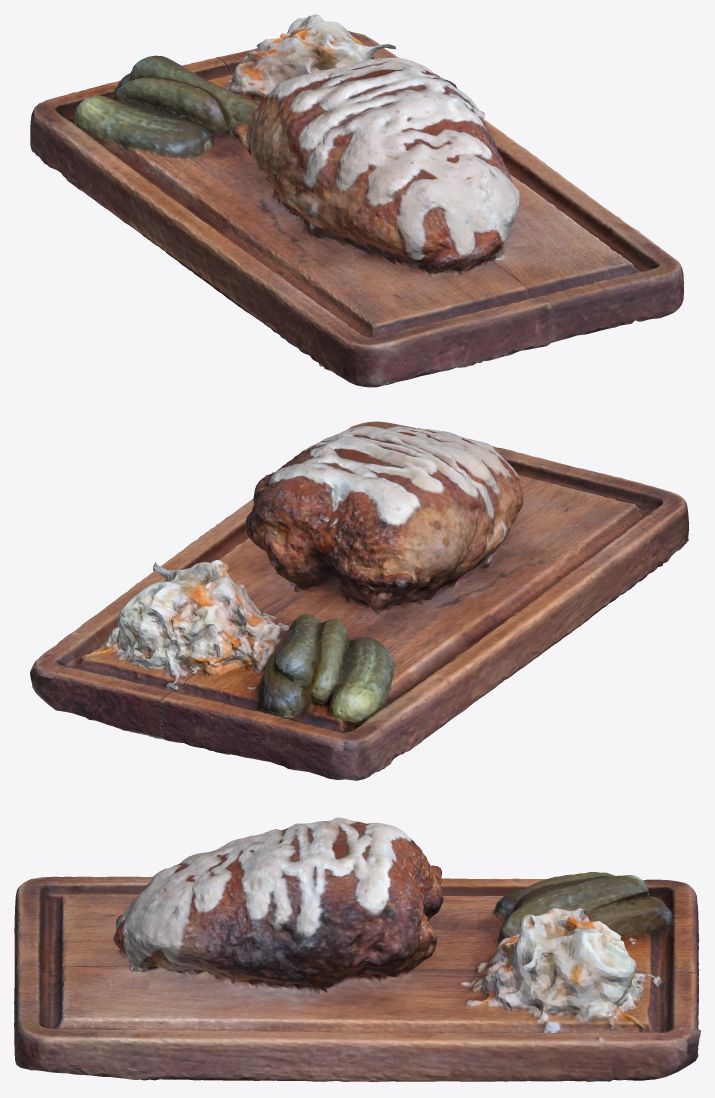
File: sineyye morgh.behine.glb
3 renders of one model, top to bottom at view 1: azimuth 30°, elevation 25°; view 2: azimuth 150°, elevation 25°; view 3: azimuth 270°, elevation 25°, orthographic.
Parts seen in each view (by area): view 1: object 1; view 2: object 1; view 3: object 1.
Boxes of the visible parts, left/top/right/bottom form: object 1: left=30, top=14, right=683, bottom=387; object 1: left=30, top=421, right=688, bottom=780; object 1: left=14, top=817, right=700, bottom=1082.
Size of the model in its own units: 0.22 by 0.0978 by 0.3765.
2 materials, 1 textured.
